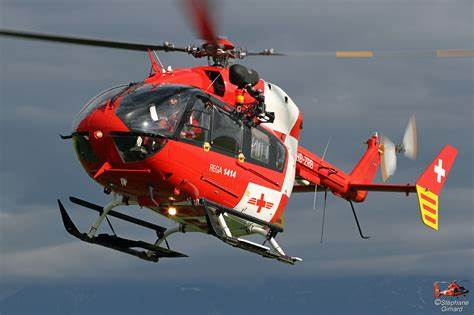Aeronef_de_service: (1, 1, 460, 293)
